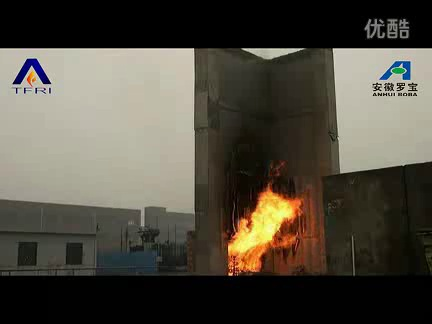fire: (227, 182, 312, 278)
